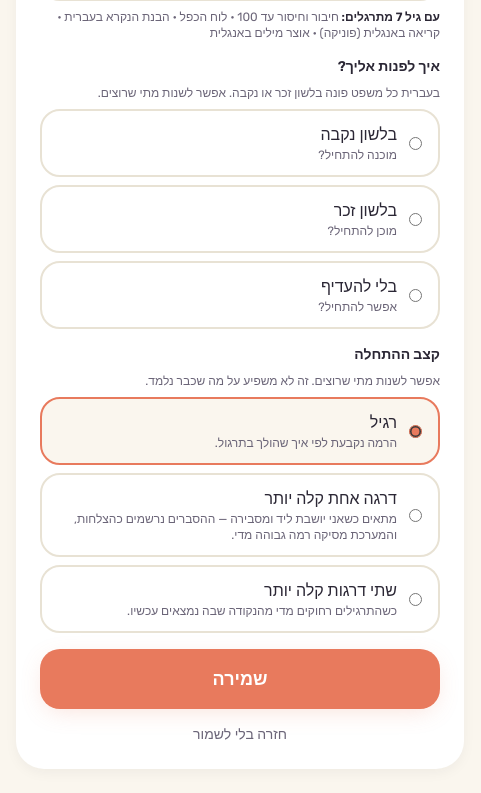
Scenario: <DifficultyOffsetPicker> — קצב ההתחלה (BL-021) › פרופיל שנמחק בזמן העריכה — מודיע ולא מנווט כאילו נשמר
This screenshot has width=481, height=793.
(page scrolled)
Expected: the text "קצב ההתחלה" is shown, [354,345,440,365]
Click the 5th radio button. click: click(416, 515)
box: [409,508,422,522]
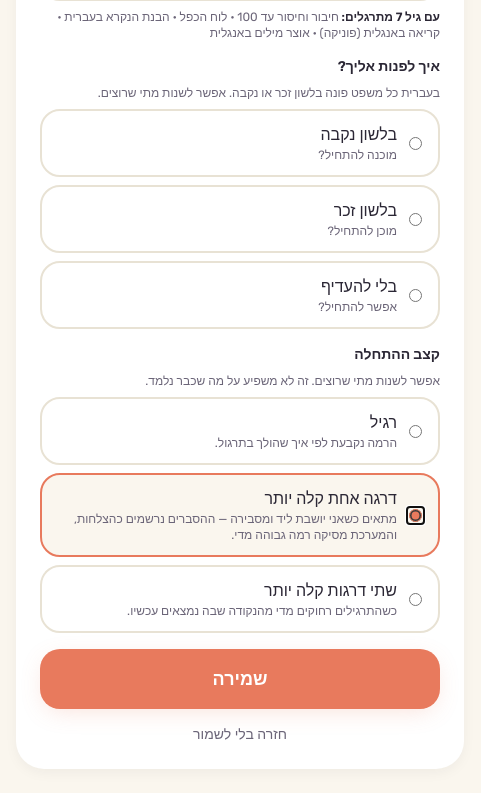
Click the button "שמירה". click: click(240, 679)
box: [40,649,440,709]
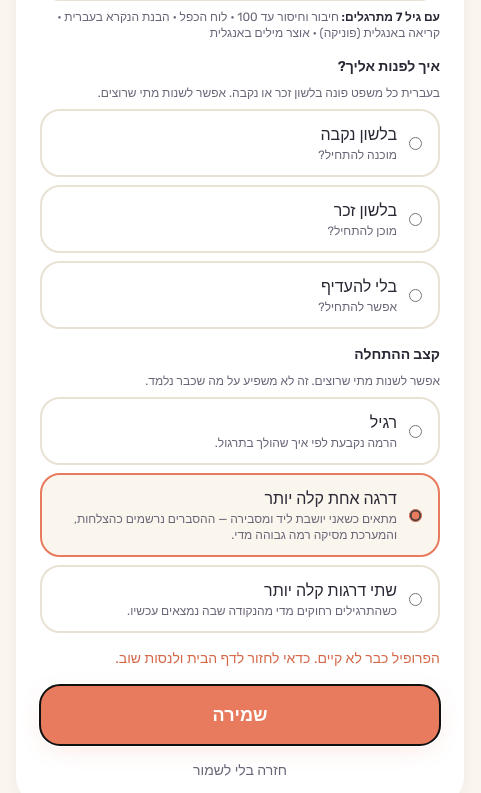
Expected: the text "הפרופיל כבר לא קיים. כדאי לחזור לדף הבית ולנסות שוב." is shown, [115,650,440,667]
